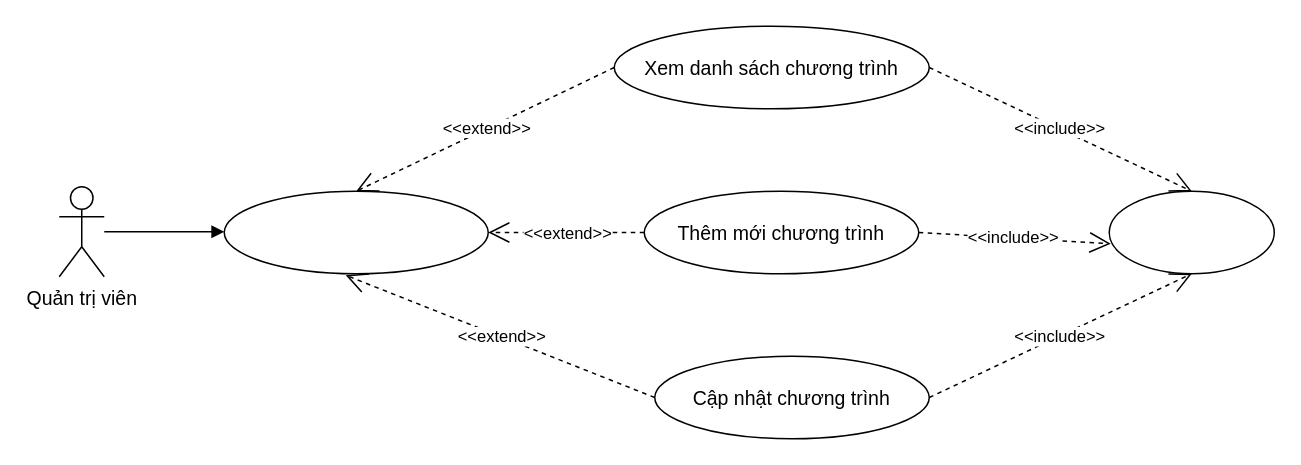
Image size: 1301x465. Some labels were removed from this diagram. Each missing label, with the centre of its shape:
"Quản lý chương trình" belongs at (355,232).
"Đăng nhập" belongs at (1191,232).
